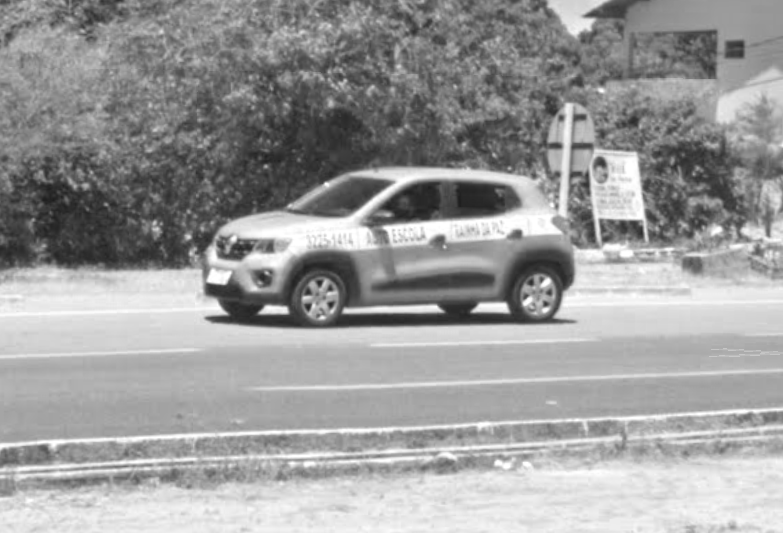car: (199, 160, 577, 329)
